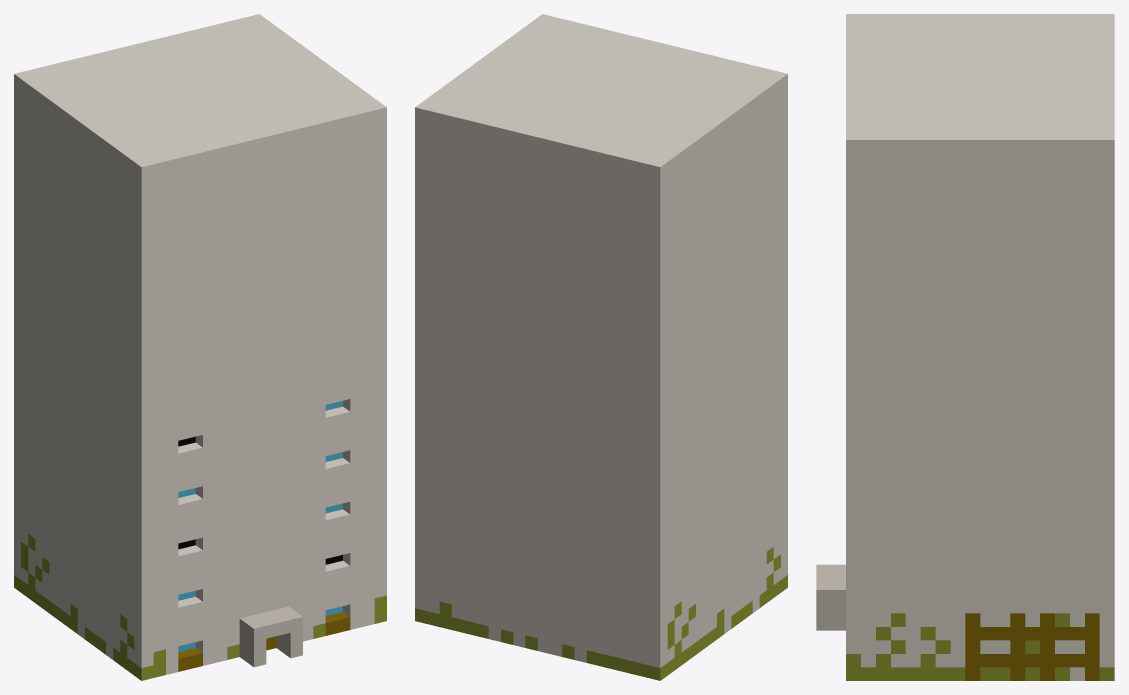
Rendered from Building1.fbx.
The picture shows the model from 3 angles, left to right: view 1: azimuth 30°, elevation 25°; view 2: azimuth 150°, elevation 25°; view 3: azimuth 270°, elevation 25°; orthographic projection. The views are drawn at different scales.
Parts seen in each view (by area): view 1: Building1:model_Building1_obj; view 2: Building1:model_Building1_obj; view 3: Building1:model_Building1_obj.
Part boxes in pixels (<box>): Building1:model_Building1_obj: <box>14,14,386,680</box>; Building1:model_Building1_obj: <box>415,14,787,680</box>; Building1:model_Building1_obj: <box>816,14,1114,680</box>.
Bounding box in the file's own units: 20 × 40 × 20.
